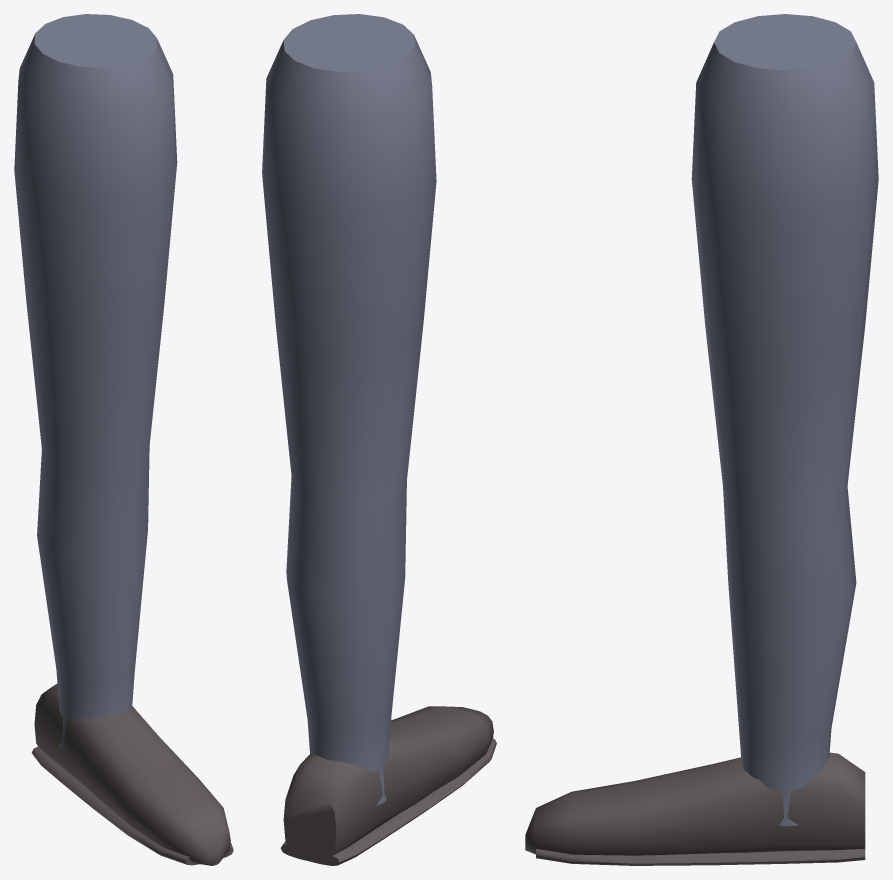
The model's file is Char_Leg.fbx.
3 renders of one model, left to right at view 1: azimuth 30°, elevation 25°; view 2: azimuth 150°, elevation 25°; view 3: azimuth 270°, elevation 25°, orthographic. The views are drawn at different scales.
Visible parts, largest first — view 1: Char_Leg; view 2: Char_Leg; view 3: Char_Leg.
Boxes of the visible parts, box(x1,y1,x2,y2) form: Char_Leg: box(14, 14, 233, 865); Char_Leg: box(262, 14, 496, 865); Char_Leg: box(525, 14, 878, 865).
Size of the model in its own units: 0.2 by 0.9999 by 0.397.
